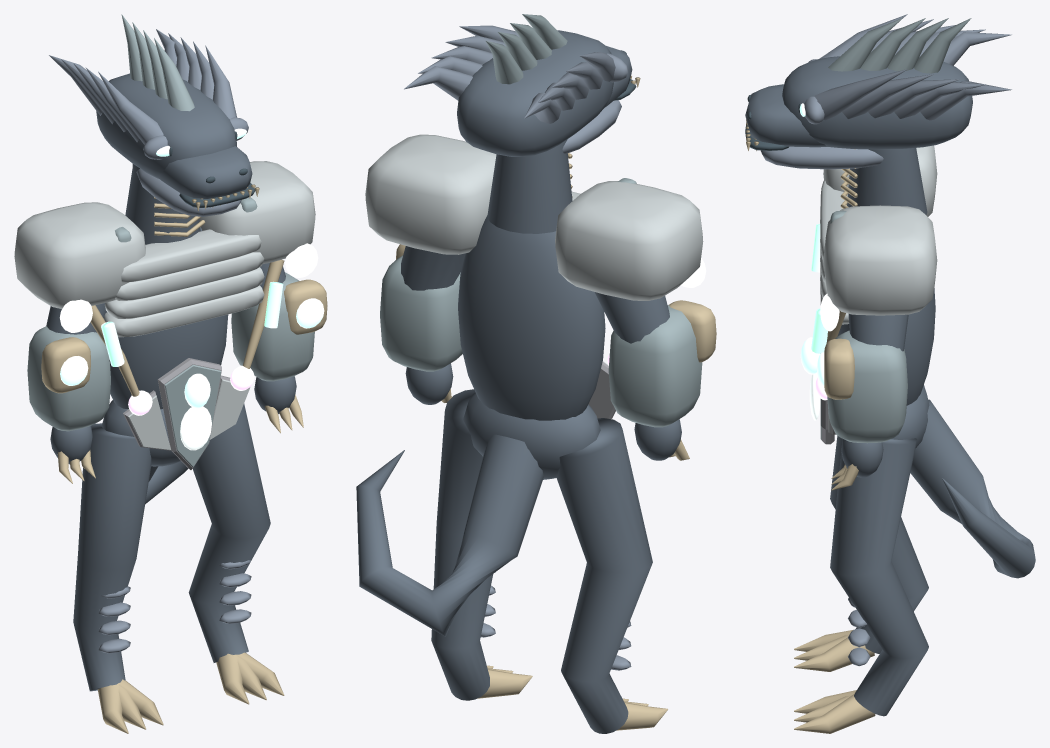
File: tyrotaronus.glb
3 renders of one model, left to right at view 1: azimuth 30°, elevation 25°; view 2: azimuth 150°, elevation 25°; view 3: azimuth 270°, elevation 25°, orthographic. The views are drawn at different scales.
Parts seen in each view (by area): view 1: Left digitigrade leg, Right digitigrade leg, Left silver shoulder shell, Long angular dragon cranium, Right silver shoulder shell, Scaled narrow torso, Left forearm mechanical bracer, Right forearm mechanical bracer, Broad silver chest louvre 0, Tapered muzzle, Broad silver chest louvre 2, Broad silver chest louvre 3 (+39 smaller); view 2: Scaled narrow torso, Left digitigrade leg, Long curling reptilian tail, Left silver shoulder shell, Right silver shoulder shell, Long angular dragon cranium, Right digitigrade leg, Left forearm mechanical bracer, Right forearm mechanical bracer, Long reptilian neck, Scaled hip, Left sinewed arm (+17 smaller); view 3: Right digitigrade leg, Right silver shoulder shell, Long angular dragon cranium, Long curling reptilian tail, Right forearm mechanical bracer, Long reptilian neck, Tapered muzzle, Left digitigrade leg, Scaled narrow torso, Hinged lower scaled jaw, Right sinewed arm, Right bracer emitter casing (+20 smaller).
Part boxes in pixels (bbox=[...]): Left digitigrade leg: bbox=[73, 423, 151, 691]; Right digitigrade leg: bbox=[188, 403, 270, 662]; Left silver shoulder shell: bbox=[14, 202, 145, 308]; Long angular dragon cranium: bbox=[96, 73, 236, 178]; Right silver shoulder shell: bbox=[199, 161, 315, 263]; Scaled narrow torso: bbox=[109, 227, 228, 409]; Left forearm mechanical bracer: bbox=[27, 326, 110, 431]; Right forearm mechanical bracer: bbox=[231, 272, 314, 381]; Broad silver chest louvre 0: bbox=[121, 229, 261, 282]; Tapered muzzle: bbox=[157, 146, 252, 198]; Broad silver chest louvre 2: bbox=[104, 267, 264, 318]; Broad silver chest louvre 3: bbox=[103, 285, 264, 337]; Scaled narrow torso: bbox=[458, 215, 605, 420]; Left digitigrade leg: bbox=[556, 418, 652, 733]; Long curling reptilian tail: bbox=[356, 434, 543, 636]; Left silver shoulder shell: bbox=[555, 181, 703, 300]; Right silver shoulder shell: bbox=[365, 134, 496, 254]; Long angular dragon cranium: bbox=[457, 30, 613, 156]; Right digitigrade leg: bbox=[431, 389, 493, 700]; Left forearm mechanical bracer: bbox=[608, 305, 702, 427]; Right forearm mechanical bracer: bbox=[380, 255, 462, 371]; Long reptilian neck: bbox=[487, 139, 572, 233]; Scaled hip: bbox=[463, 392, 600, 479]; Left sinewed arm: bbox=[595, 292, 669, 343]; Right digitigrade leg: bbox=[830, 438, 928, 716]; Right silver shoulder shell: bbox=[823, 205, 937, 315]; Long angular dragon cranium: bbox=[782, 55, 972, 149]; Long curling reptilian tail: bbox=[910, 399, 1035, 578]; Right forearm mechanical bracer: bbox=[827, 330, 907, 443]; Long reptilian neck: bbox=[847, 148, 927, 214]; Tapered muzzle: bbox=[745, 84, 828, 147]; Left digitigrade leg: bbox=[830, 435, 928, 653]; Scaled narrow torso: bbox=[837, 288, 935, 405]; Hinged lower scaled jaw: bbox=[760, 146, 883, 169]; Right sinewed arm: bbox=[848, 314, 908, 351]; Right bracer emitter casing: bbox=[824, 338, 854, 399].
Bounding box in the file's own units: 2.08 × 4.58 × 1.78.
